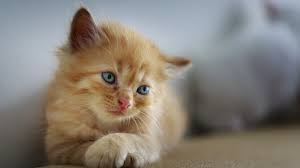Gato: (46, 3, 199, 163)
